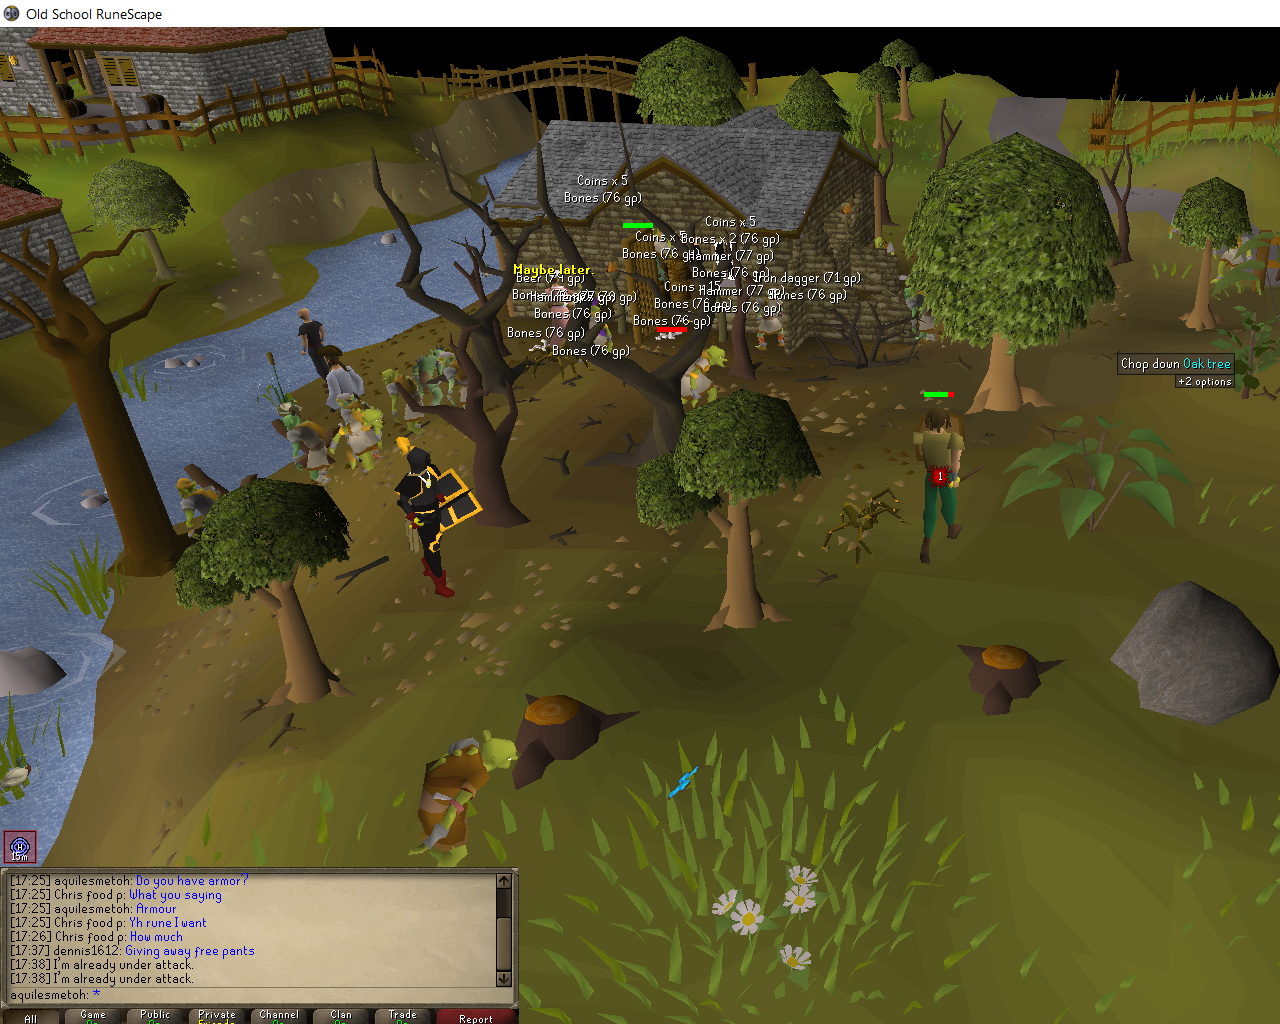Goblin: (174, 478, 240, 544), (328, 408, 388, 475), (282, 408, 333, 486), (676, 340, 728, 411), (336, 392, 388, 458), (1209, 228, 1254, 294), (382, 368, 426, 434), (750, 294, 793, 351), (438, 353, 481, 409), (413, 347, 448, 409)
